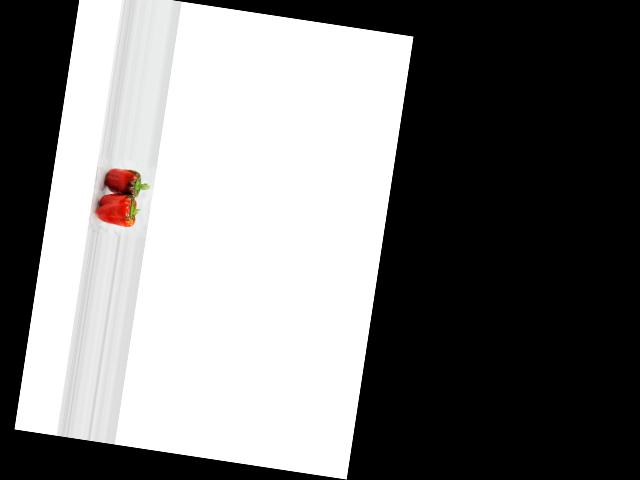bell_pepper: (93, 191, 144, 234)
